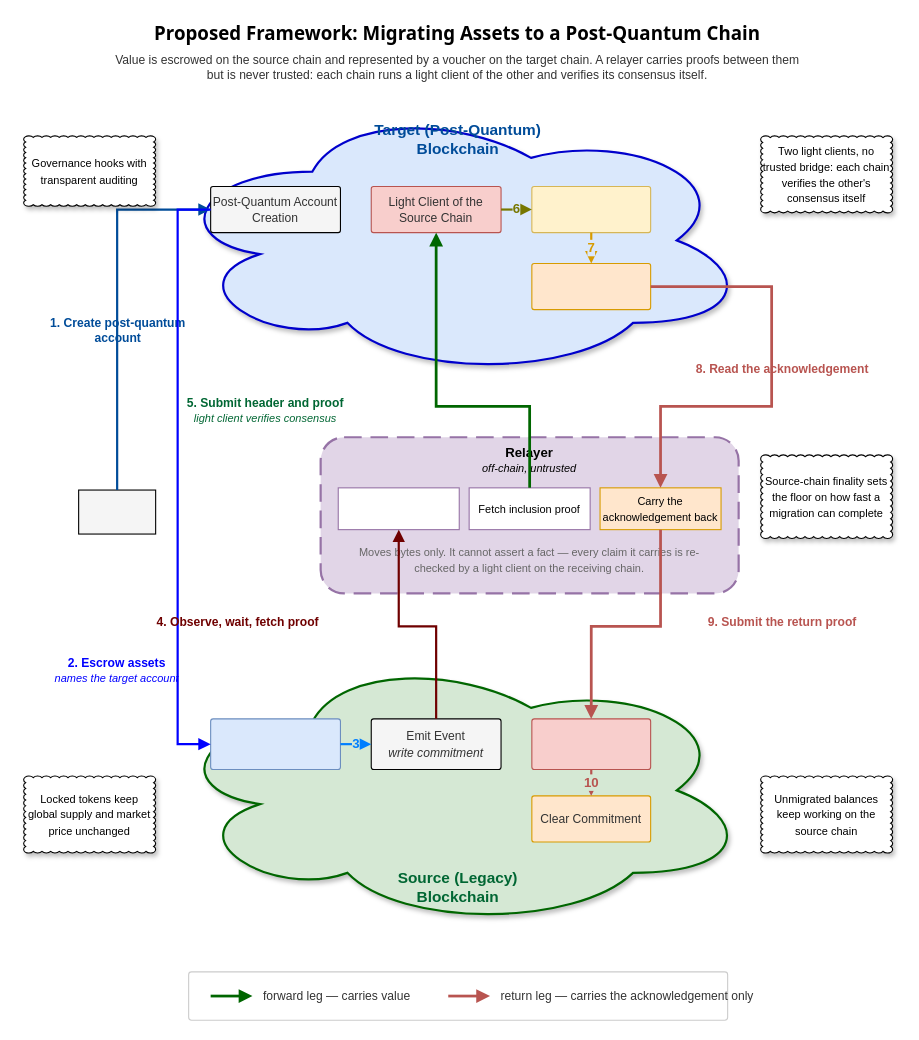
This 919x1040 diagram has some shape labels left out. The shapes that lost their labels are listed below. From the top down, each one's centre as x and y in pixels, then its label:
At [591,209]: "Mint Voucher".
At [591,286]: "Write Acknowledgement".
At [117,511]: "Start".
At [398,508]: "Wait for source finality".
At [275,743]: "Escrow Assets never burned".
At [591,743]: "Light Client of the Target Chain".
